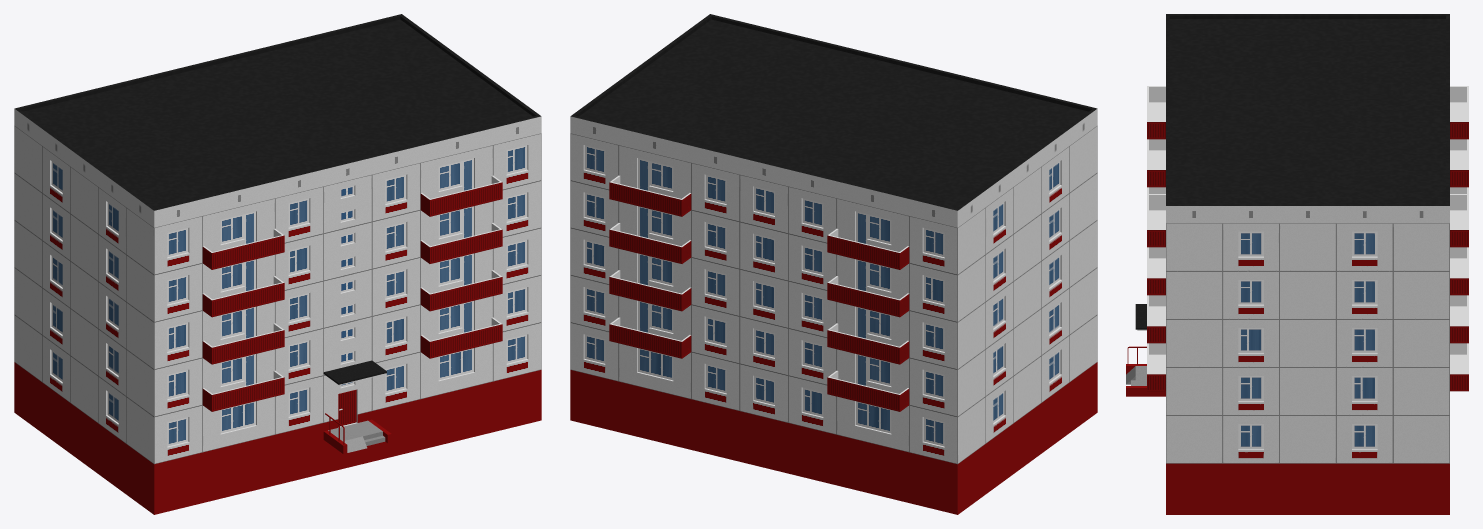
The picture shows the model from 3 angles, left to right: view 1: azimuth 30°, elevation 25°; view 2: azimuth 150°, elevation 25°; view 3: azimuth 270°, elevation 25°; orthographic projection.
Visible parts, largest first — view 1: Khrush_mesh; view 2: Khrush_mesh; view 3: Khrush_mesh.
Part boxes in pixels (x1,y1,x2,y2): Khrush_mesh: [14, 14, 541, 514]; Khrush_mesh: [570, 14, 1097, 514]; Khrush_mesh: [1126, 14, 1468, 514].
Bounding box in the file's own units: 12 × 9 × 9.05.
Materials: 1 (1 with a texture image).
